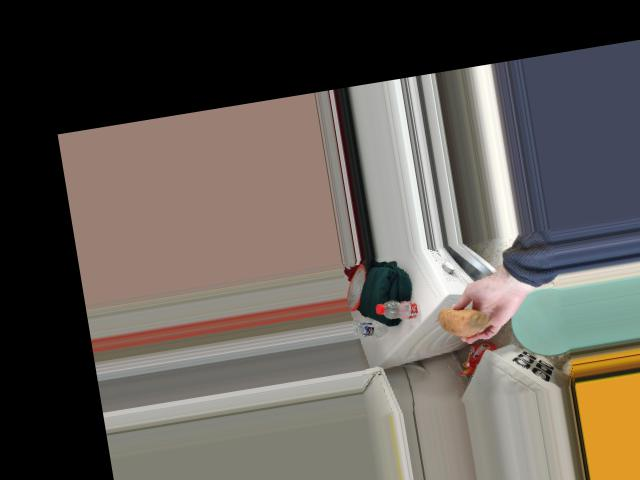sweet_potato: (435, 305, 496, 338)
